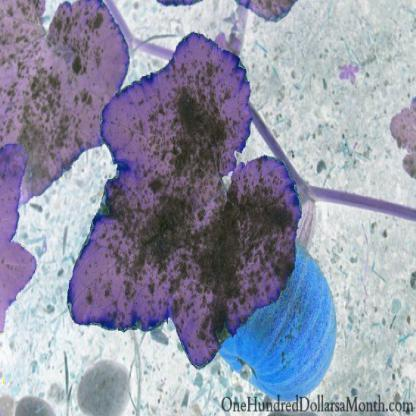Squash Powdery mildew leaf: (70, 26, 303, 379)
